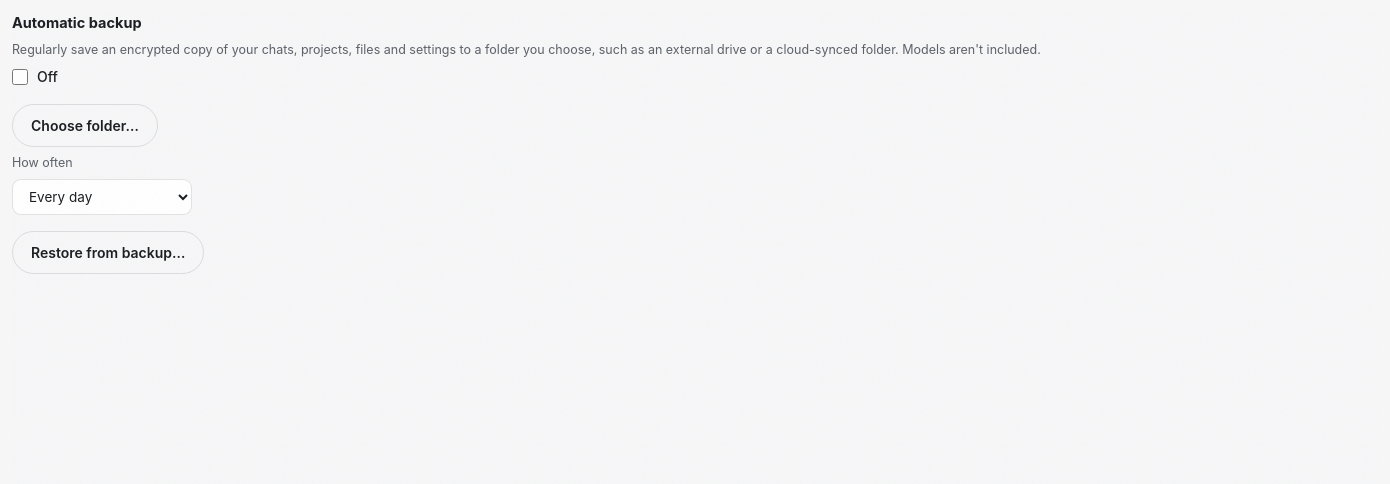
Test: AutoBackupField › shows a damaged backup's error
Click the button "Restore from backup…". click: (108, 252)
box: [12,231,204,274]
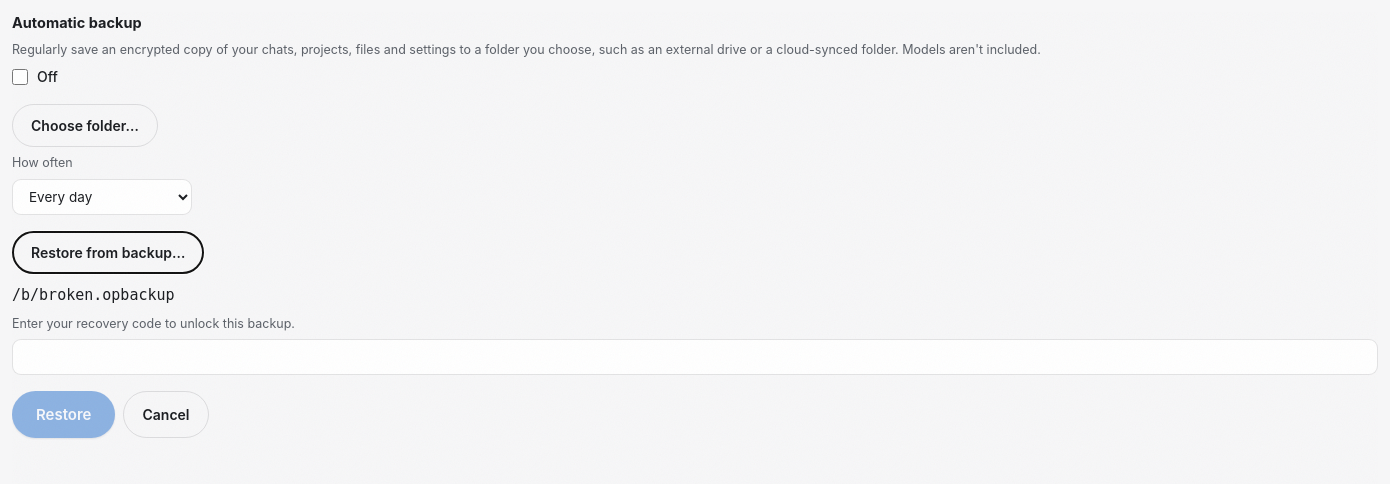
Type "CODE" into the field. click: (695, 357)
box: [12,339,1378,375]
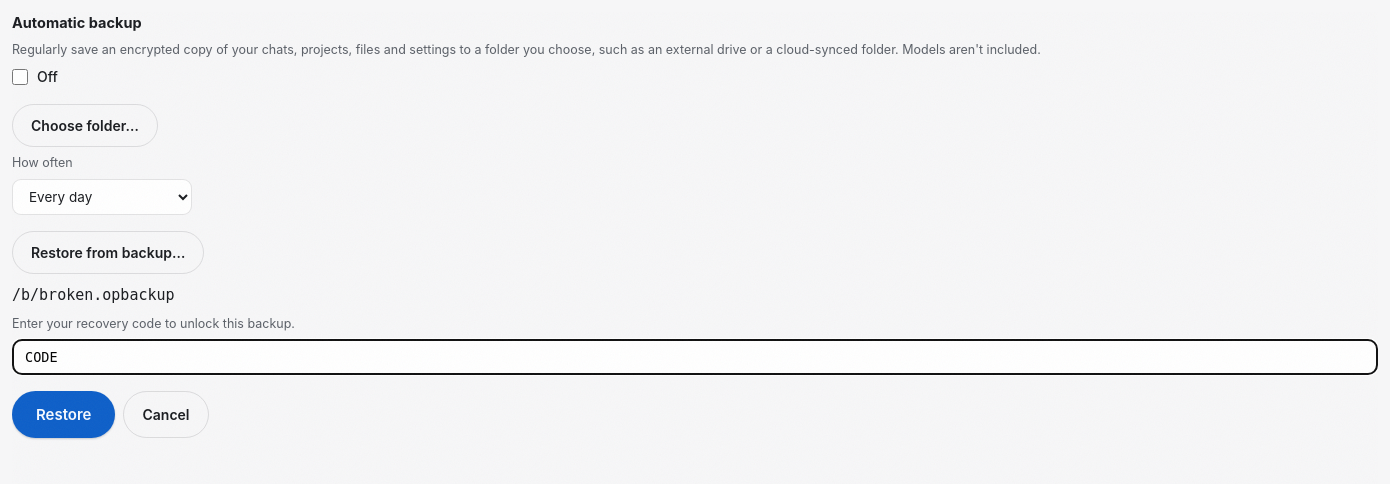
Click the button "Restore". click: (64, 415)
box: [12,391,116,438]
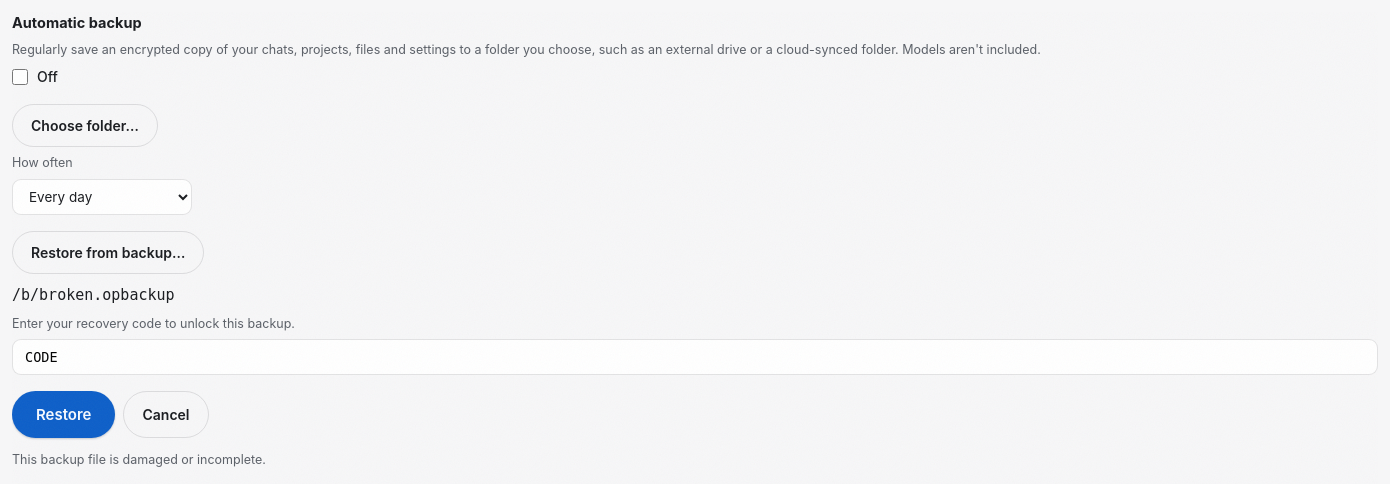
Expected: the text "This backup file is damaged or incomplete." is shown, [12,452,266,467]
